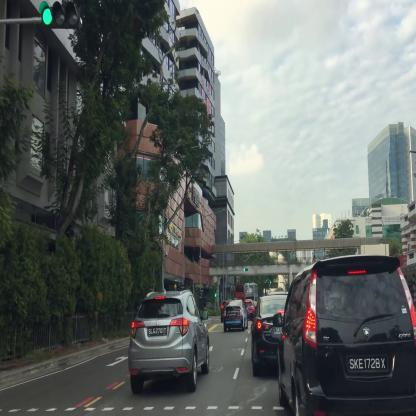green_traffic_light: (40, 1, 79, 26)
